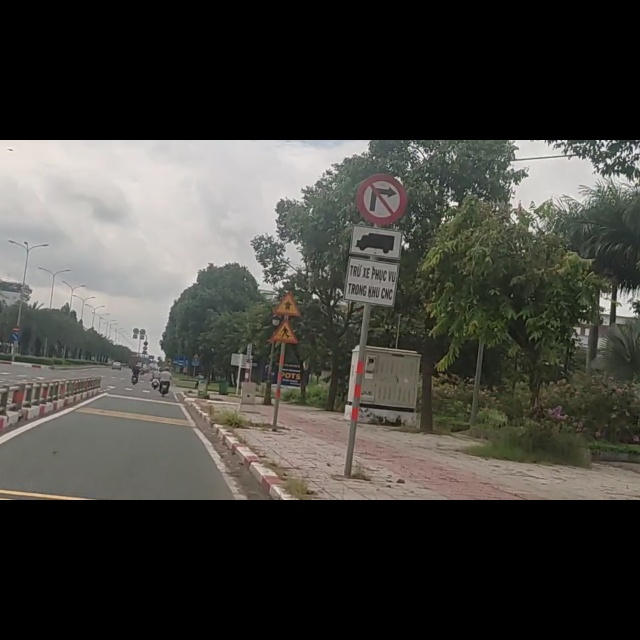bien_nguy_hiem: (344, 147, 404, 299), (353, 56, 409, 151), (271, 267, 302, 314), (269, 315, 299, 363)
